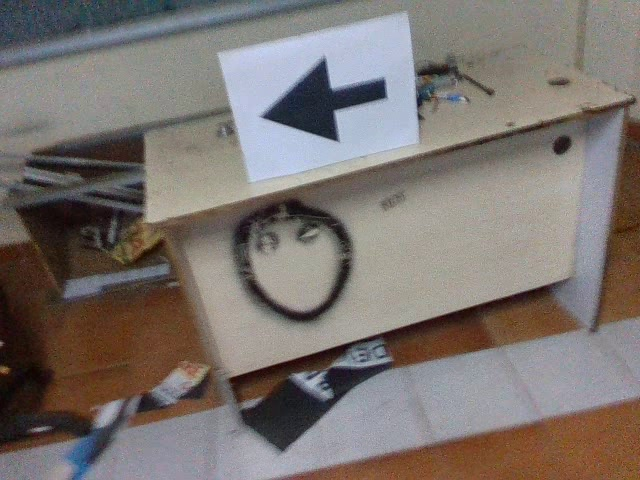Left: (253, 51, 393, 145)
